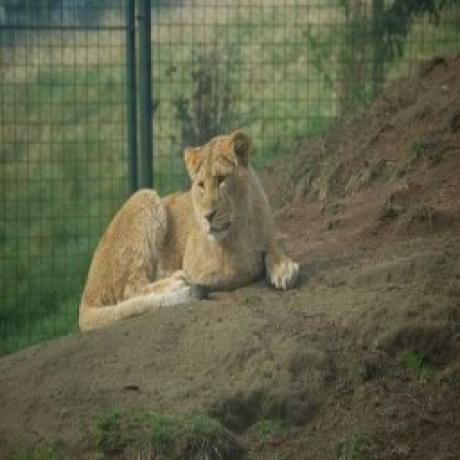Lion: (78, 130, 303, 324)
